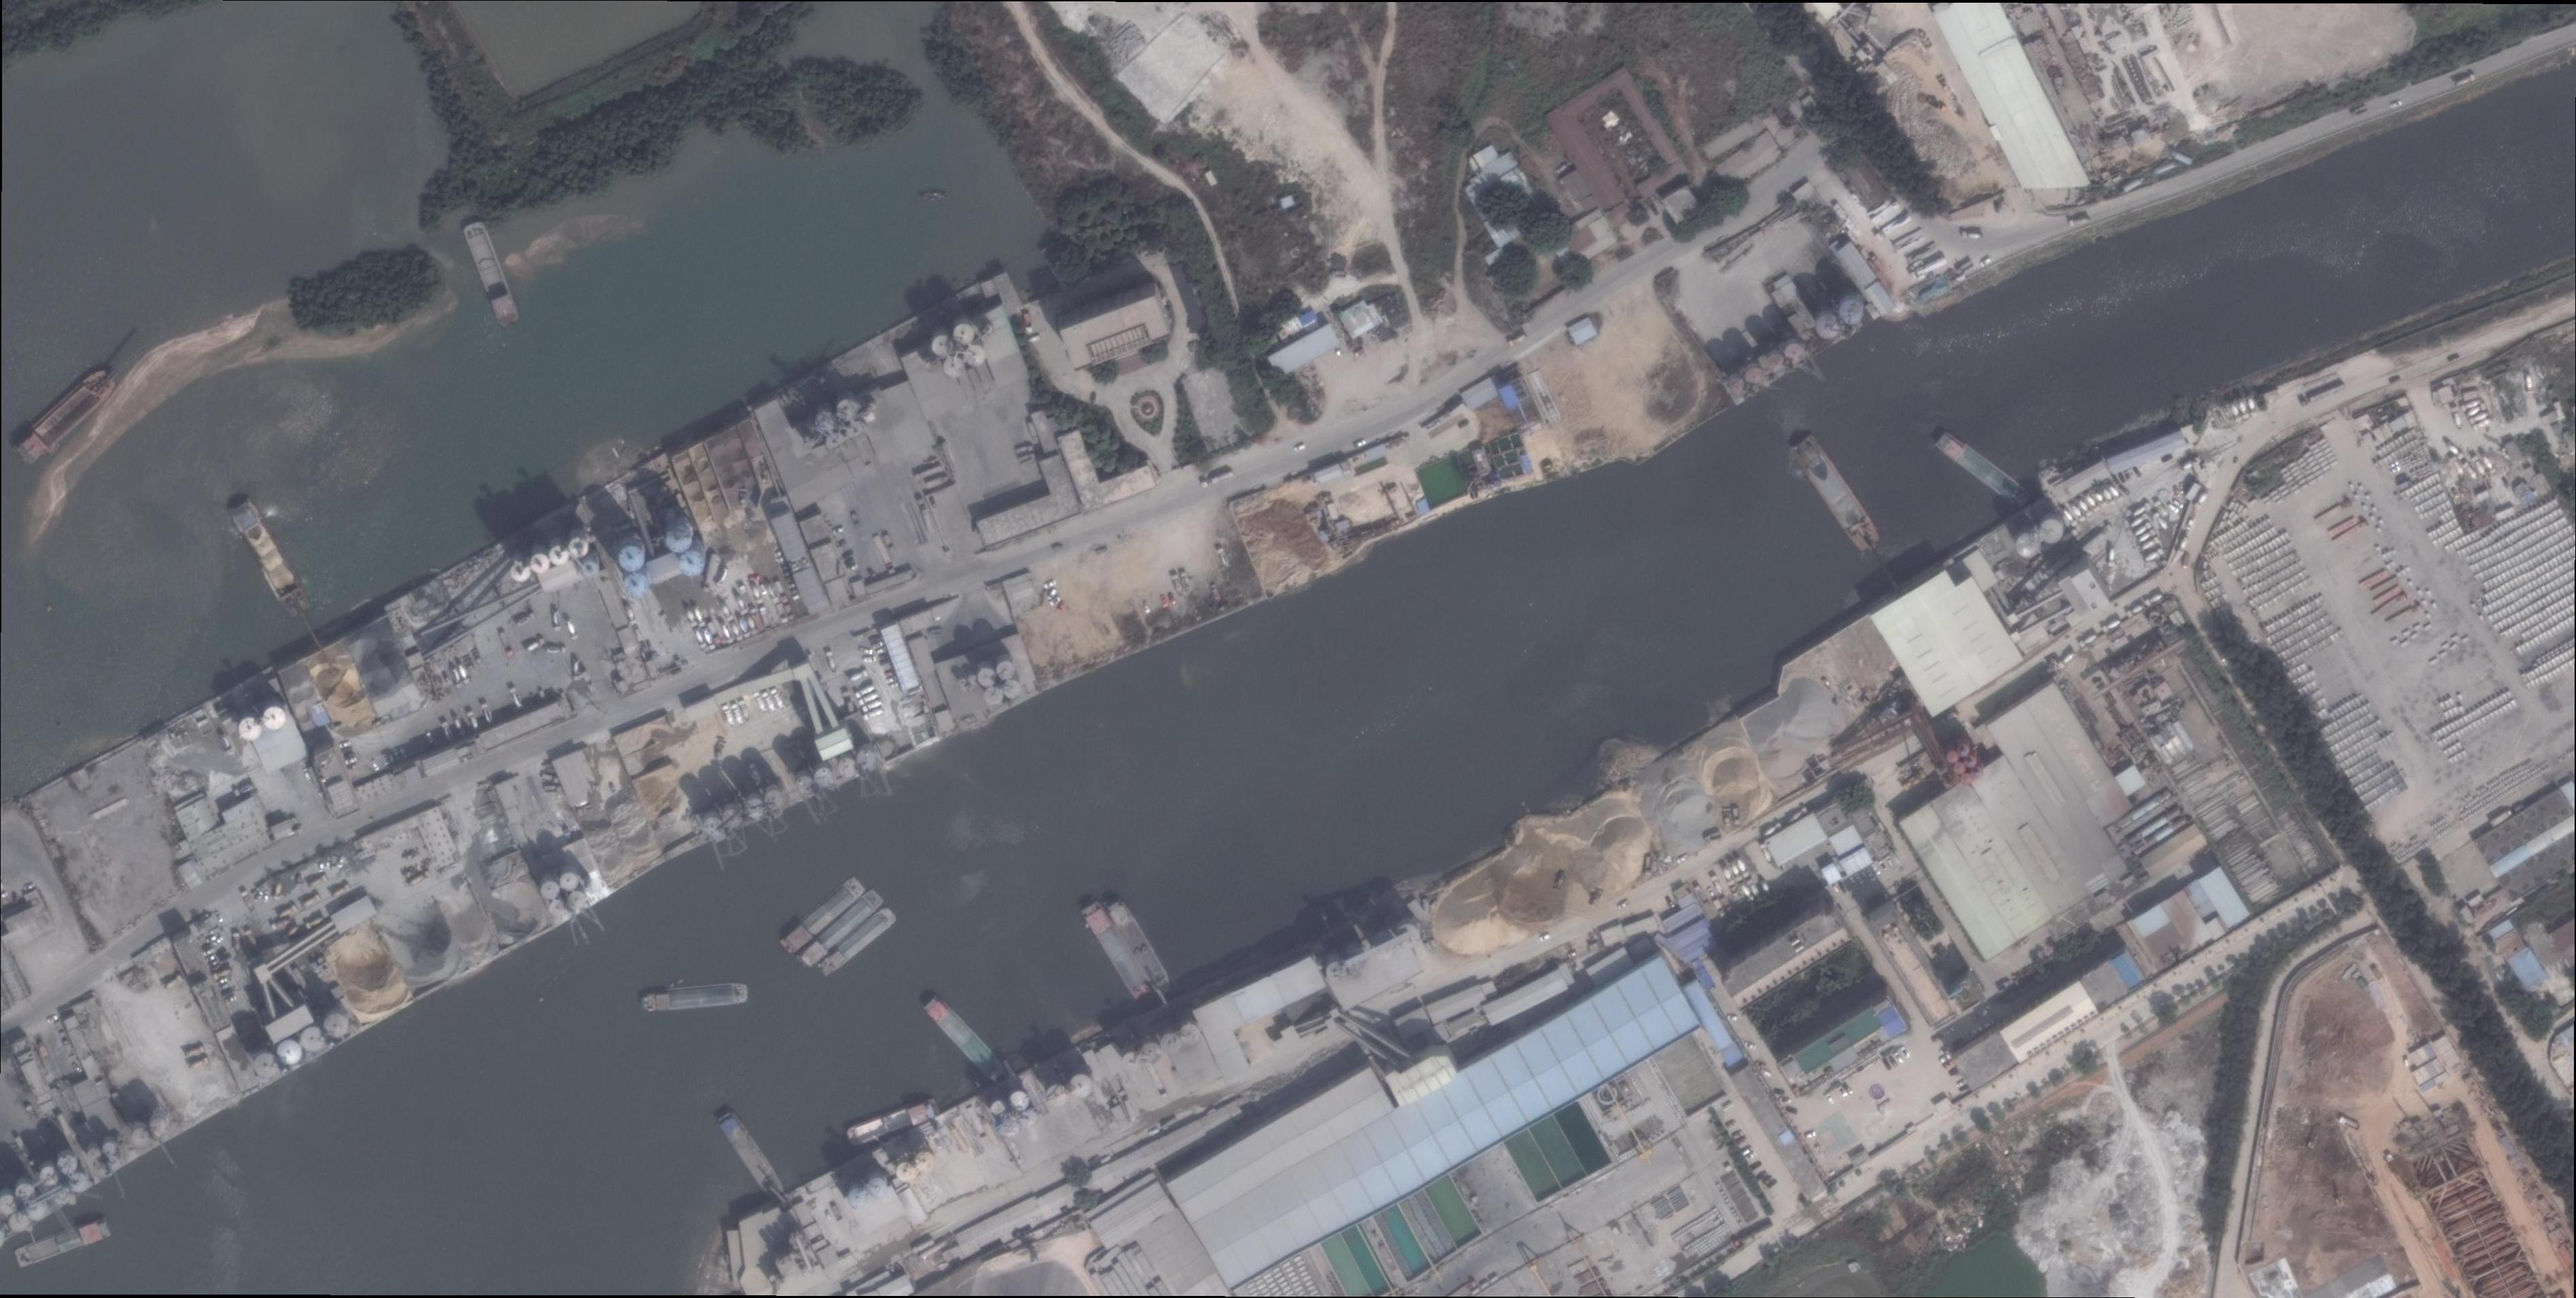ship: (1790, 434, 1883, 556), (12, 365, 118, 467), (227, 497, 315, 619), (1934, 430, 2034, 511), (921, 993, 1008, 1086), (1078, 898, 1152, 1002), (796, 887, 886, 970), (780, 876, 866, 957), (1101, 893, 1171, 990), (717, 1109, 787, 1203), (463, 220, 521, 328), (817, 905, 897, 979), (14, 1217, 113, 1268), (846, 1097, 942, 1148), (642, 983, 749, 1012), (921, 193, 947, 201)
